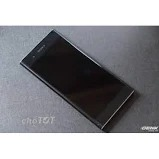sony: (11, 28, 145, 128)
